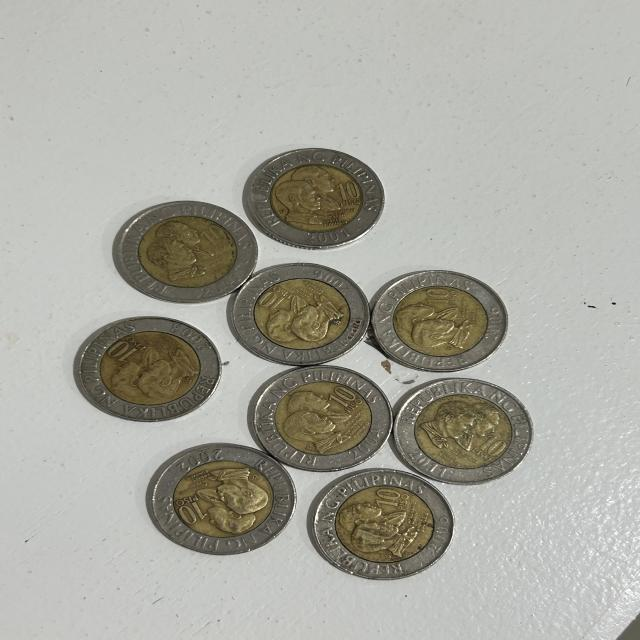10_Old_Front: (168, 490, 211, 526), (366, 485, 412, 517), (325, 381, 364, 418), (99, 336, 148, 364), (469, 433, 514, 462), (196, 224, 233, 256), (416, 285, 463, 309), (332, 179, 366, 211), (257, 287, 292, 314)
